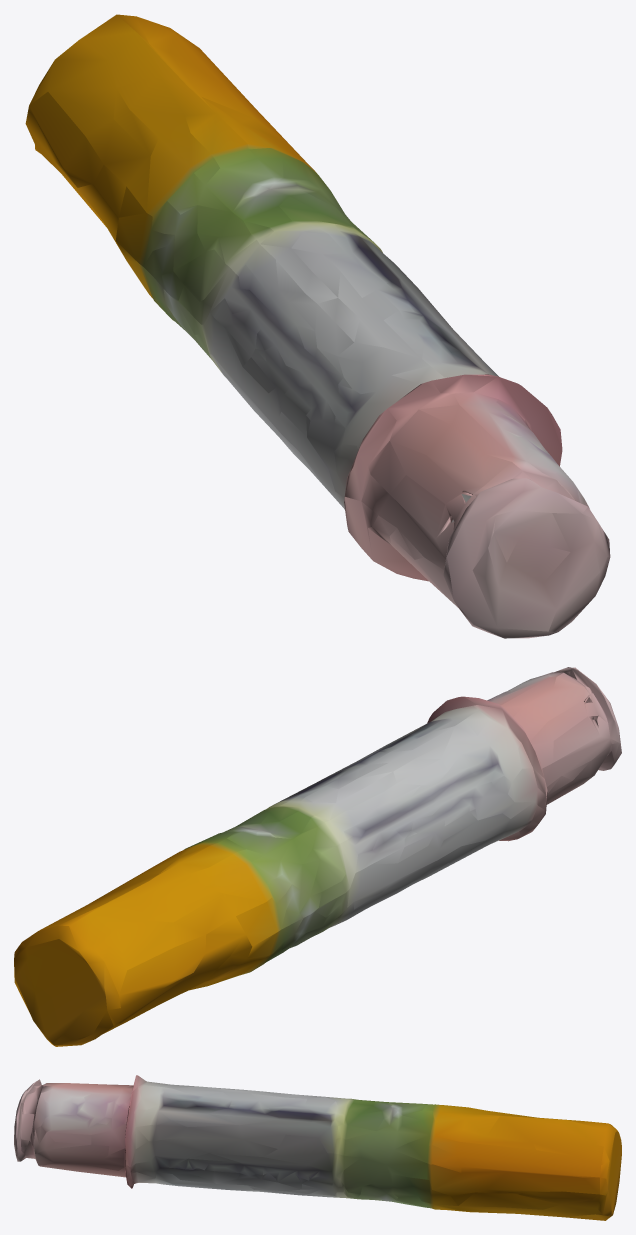
The model's file is 0019_mask_020_orange_marker.glb.
3 views of the same model, one above another, from view 1: azimuth 30°, elevation 25°; view 2: azimuth 150°, elevation 25°; view 3: azimuth 270°, elevation 25° (orthographic). The views are drawn at different scales.
Visible parts, largest first — view 1: mask_020_object; view 2: mask_020_object; view 3: mask_020_object.
Part boxes in pixels (bbox=[...]): mask_020_object: bbox=[25, 14, 610, 638]; mask_020_object: bbox=[14, 667, 621, 1046]; mask_020_object: bbox=[14, 1075, 621, 1220].
Bounding box in the file's own units: 0.0656 × 0.0391 × 0.2106.
